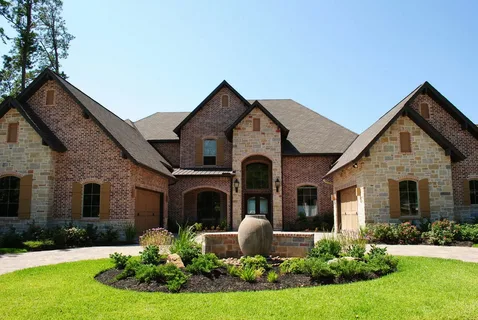private_hause: (46, 69, 461, 238)
